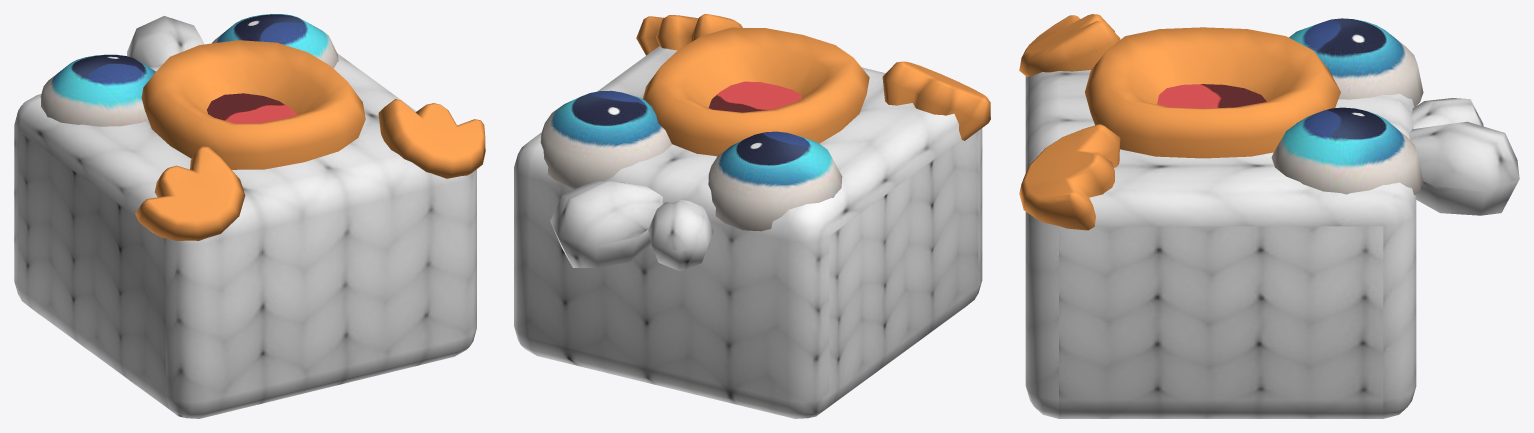
The model's file is Creator2.fbx.
The picture shows the model from 3 angles, left to right: view 1: azimuth 30°, elevation 25°; view 2: azimuth 150°, elevation 25°; view 3: azimuth 270°, elevation 25°; orthographic projection. The views are drawn at different scales.
Visible parts, largest first — view 1: Cube_Creator_1; view 2: Cube_Creator_1; view 3: Cube_Creator_1.
Part boxes in pixels (x1,y1,x2,y2): Cube_Creator_1: (14,14,485,418); Cube_Creator_1: (514,14,990,418); Cube_Creator_1: (1019,14,1519,418).
Bounding box in the file's own units: 16.81 × 11.82 × 19.23.
